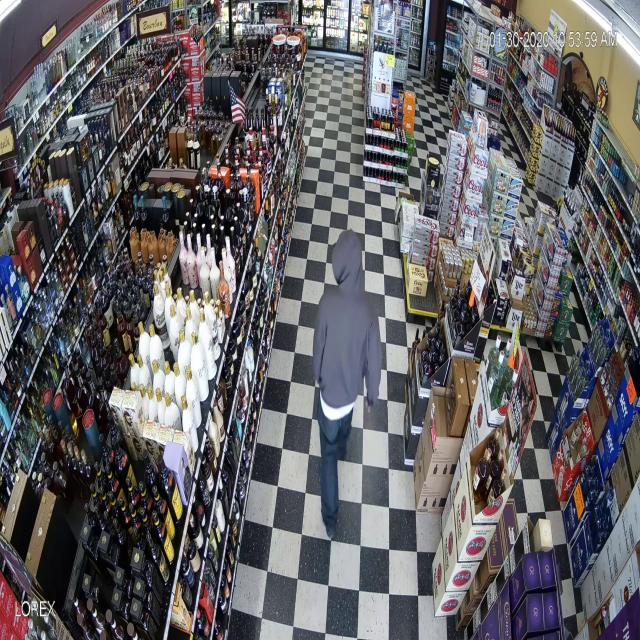normal: (282, 228, 404, 574)
